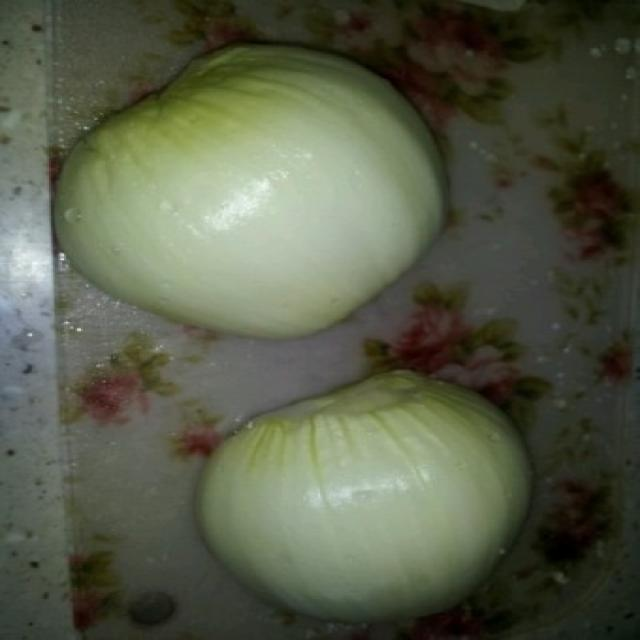onion: (41, 35, 464, 345), (209, 368, 540, 597)
